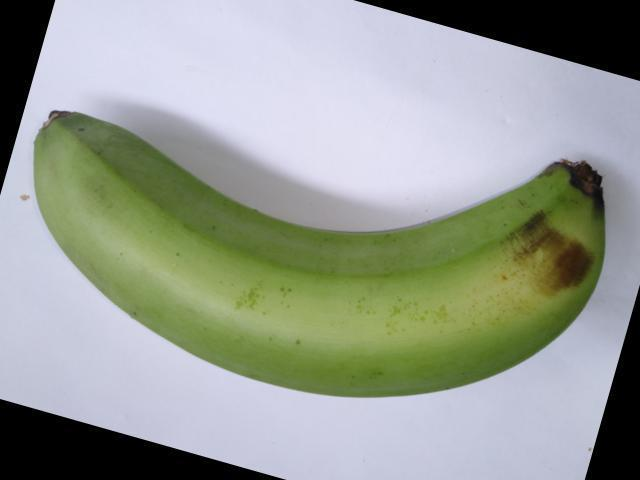freshunripe: (18, 101, 627, 404)
